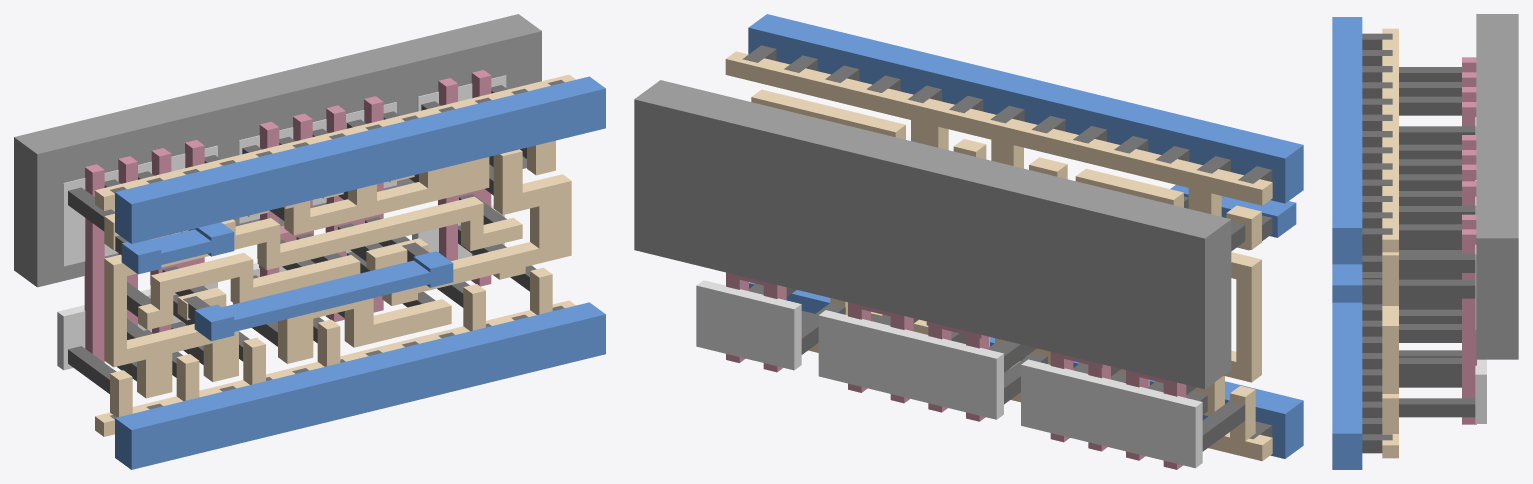
Rendered from sky130_fd_sc_hd__xor2_2.gds.gltf.
The picture shows the model from 3 angles, left to right: view 1: azimuth 30°, elevation 25°; view 2: azimuth 150°, elevation 25°; view 3: azimuth 270°, elevation 25°; orthographic projection. The views are drawn at different scales.
Visible parts, largest first — view 1: sky130_fd_sc_hd__xor2_2_met1, sky130_fd_sc_hd__xor2_2_li1, sky130_fd_sc_hd__xor2_2_nwell, sky130_fd_sc_hd__xor2_2_poly, sky130_fd_sc_hd__xor2_2_licon, sky130_fd_sc_hd__xor2_2_diff, sky130_fd_sc_hd__xor2_2_mcon; view 2: sky130_fd_sc_hd__xor2_2_nwell, sky130_fd_sc_hd__xor2_2_diff, sky130_fd_sc_hd__xor2_2_li1, sky130_fd_sc_hd__xor2_2_met1, sky130_fd_sc_hd__xor2_2_mcon, sky130_fd_sc_hd__xor2_2_licon, sky130_fd_sc_hd__xor2_2_poly; view 3: sky130_fd_sc_hd__xor2_2_licon, sky130_fd_sc_hd__xor2_2_nwell, sky130_fd_sc_hd__xor2_2_met1, sky130_fd_sc_hd__xor2_2_mcon, sky130_fd_sc_hd__xor2_2_li1, sky130_fd_sc_hd__xor2_2_poly, sky130_fd_sc_hd__xor2_2_diff.
Part boxes in pixels (x1,y1,x2,y2): sky130_fd_sc_hd__xor2_2_met1: (115, 76, 605, 469); sky130_fd_sc_hd__xor2_2_li1: (95, 74, 575, 436); sky130_fd_sc_hd__xor2_2_nwell: (14, 14, 541, 287); sky130_fd_sc_hd__xor2_2_poly: (84, 70, 491, 362); sky130_fd_sc_hd__xor2_2_licon: (68, 85, 536, 393); sky130_fd_sc_hd__xor2_2_diff: (57, 75, 506, 370); sky130_fd_sc_hd__xor2_2_mcon: (110, 80, 564, 419); sky130_fd_sc_hd__xor2_2_nwell: (634, 80, 1231, 389); sky130_fd_sc_hd__xor2_2_diff: (696, 280, 1202, 468); sky130_fd_sc_hd__xor2_2_li1: (725, 51, 1272, 461); sky130_fd_sc_hd__xor2_2_met1: (748, 14, 1303, 458); sky130_fd_sc_hd__xor2_2_mcon: (742, 45, 1272, 439); sky130_fd_sc_hd__xor2_2_licon: (749, 221, 1245, 451); sky130_fd_sc_hd__xor2_2_poly: (726, 272, 1186, 469); sky130_fd_sc_hd__xor2_2_licon: (1399, 67, 1475, 417); sky130_fd_sc_hd__xor2_2_nwell: (1476, 14, 1518, 359); sky130_fd_sc_hd__xor2_2_met1: (1332, 17, 1362, 469); sky130_fd_sc_hd__xor2_2_mcon: (1362, 33, 1392, 453); sky130_fd_sc_hd__xor2_2_li1: (1382, 28, 1398, 458); sky130_fd_sc_hd__xor2_2_poly: (1462, 57, 1476, 424); sky130_fd_sc_hd__xor2_2_diff: (1475, 117, 1486, 423).
Size of the model in its own units: 6.36 by 3.2 by 2.24.
